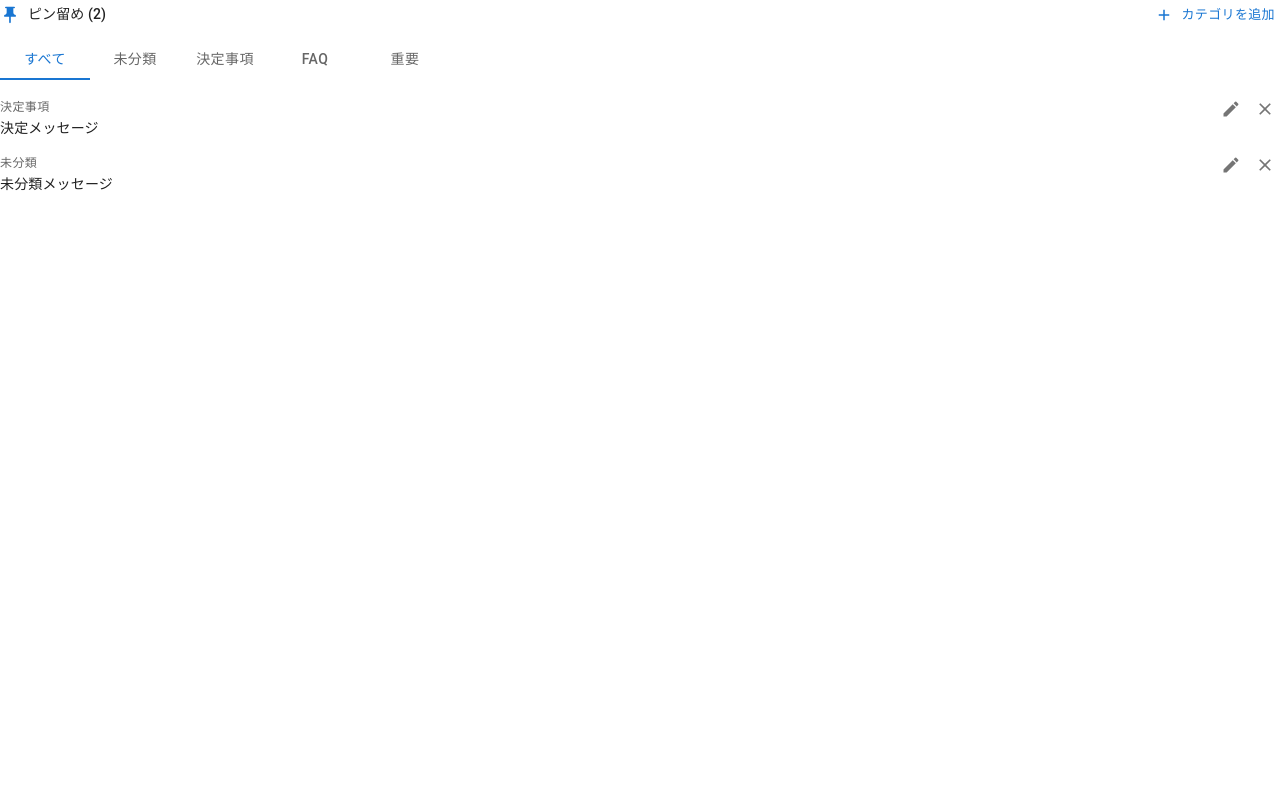
Scenario: PinnedMessages › ピン留め後のカテゴリ変更 › カテゴリ変更APIが失敗した場合は元カテゴリ・選択タブ・一覧を維持する
Click the tab "決定事項" at coordinates (225, 60), box [180,39,270,80]
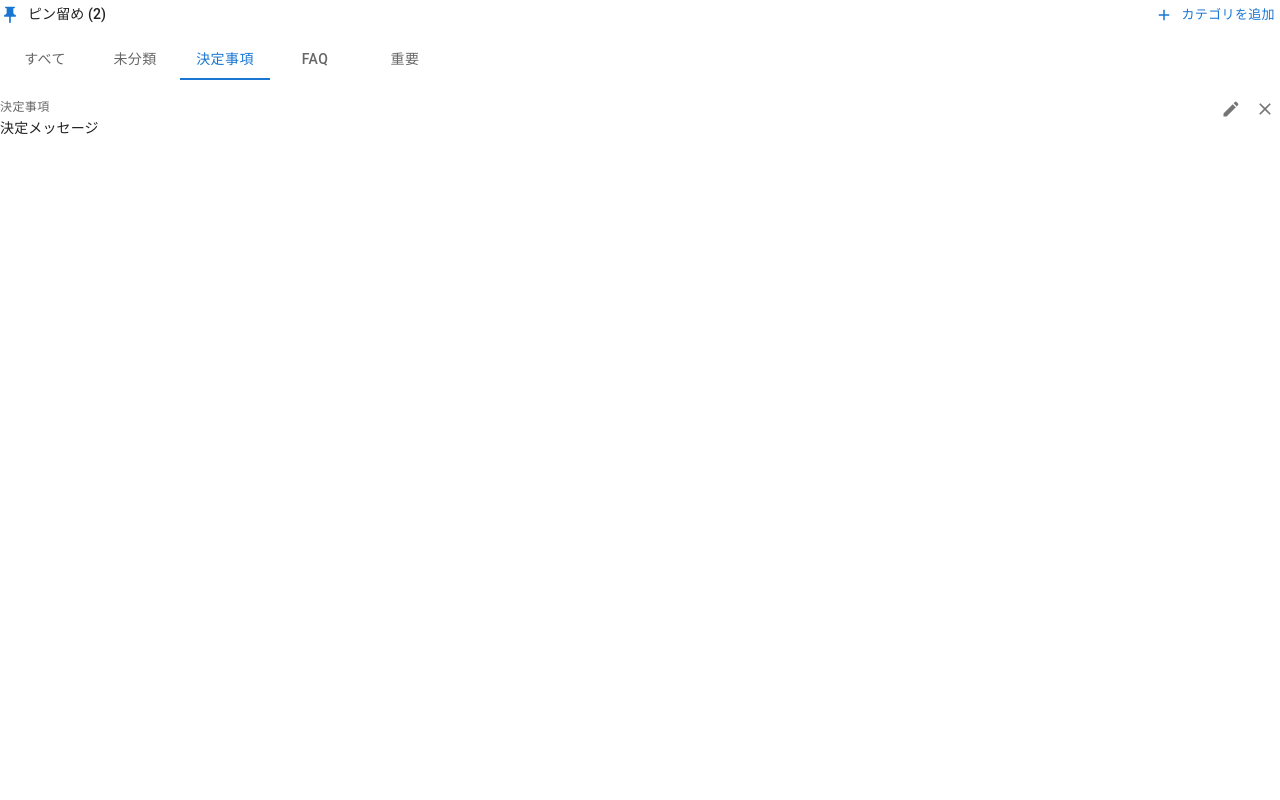
Click the button named "カテゴリを変更" at coordinates (1231, 109), box [1216,94,1246,124]
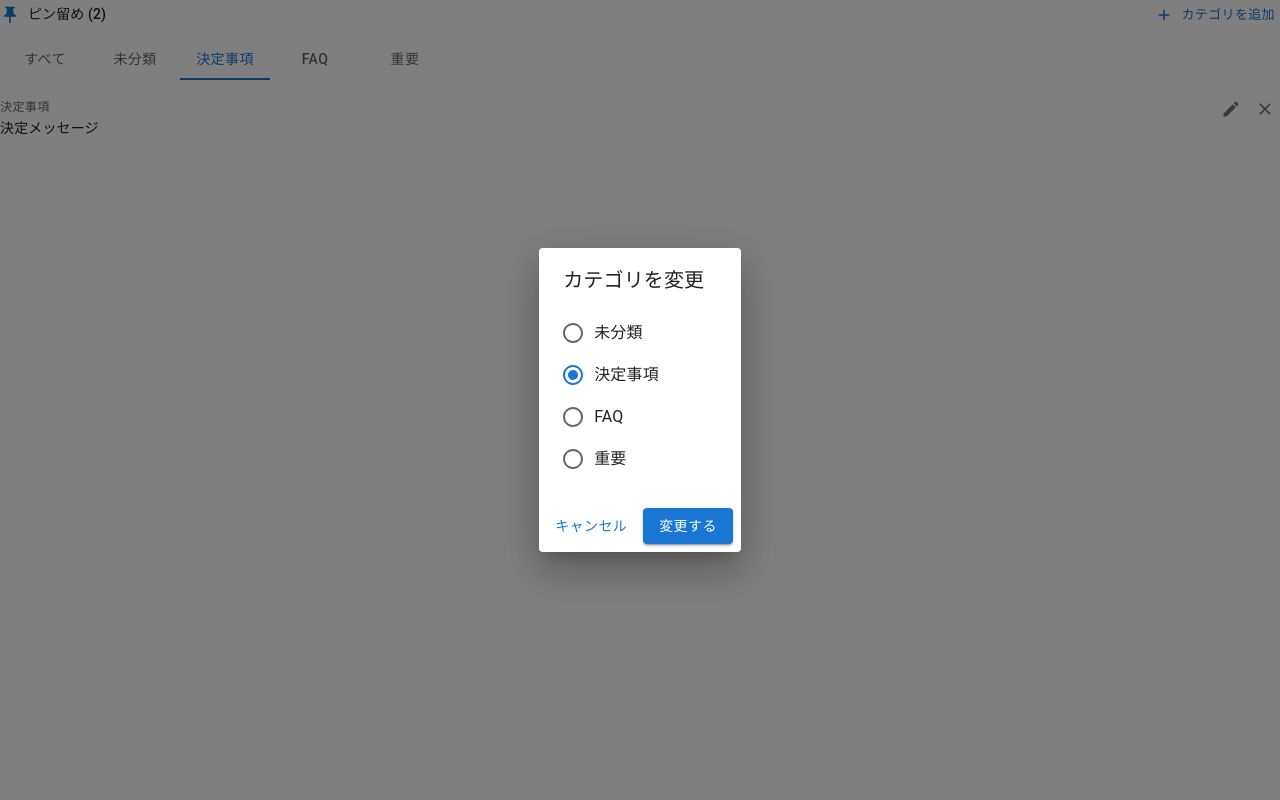
Click the radio button labelled "FAQ" at coordinates (592, 417), box [561,405,624,429]
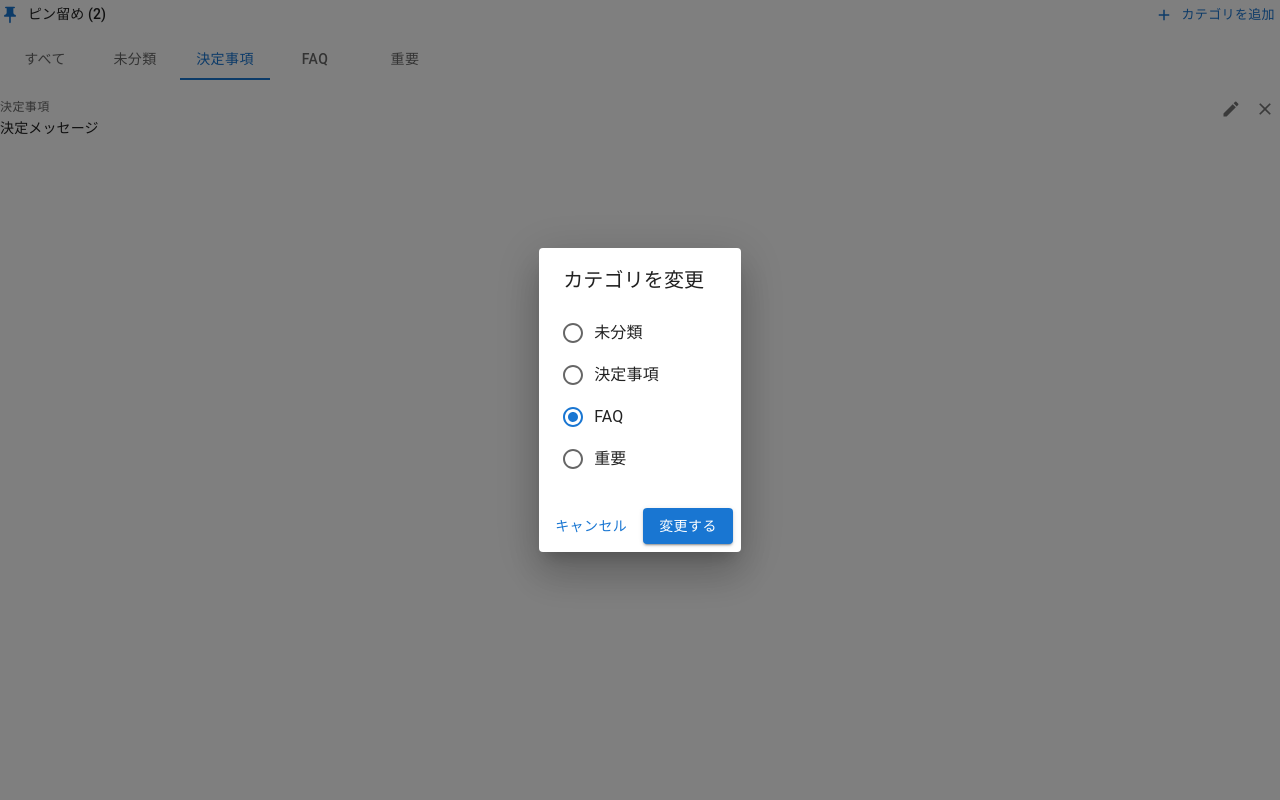
Click the button "変更する" at coordinates (688, 526), box [643,508,733,544]
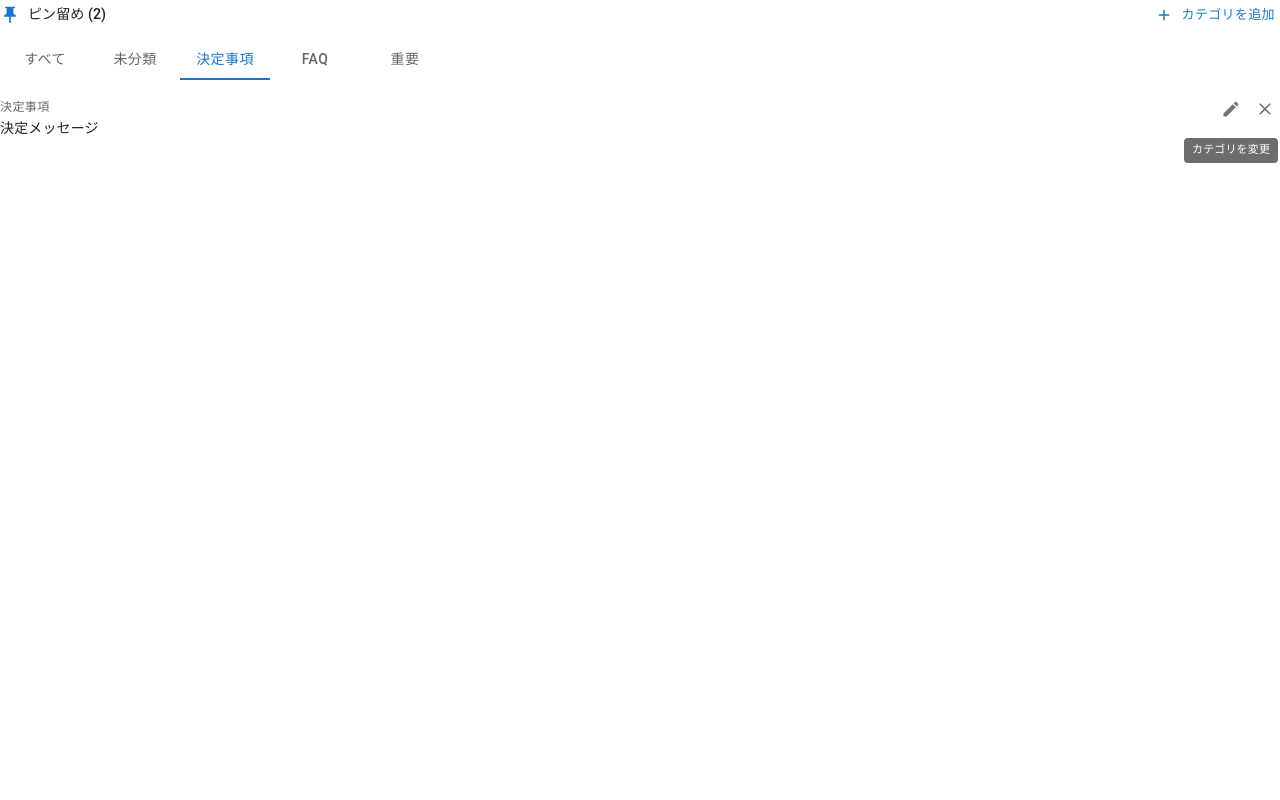
Check: the text "決定メッセージ" is shown, box [0,120,99,136]
Check: the dialog is gone
